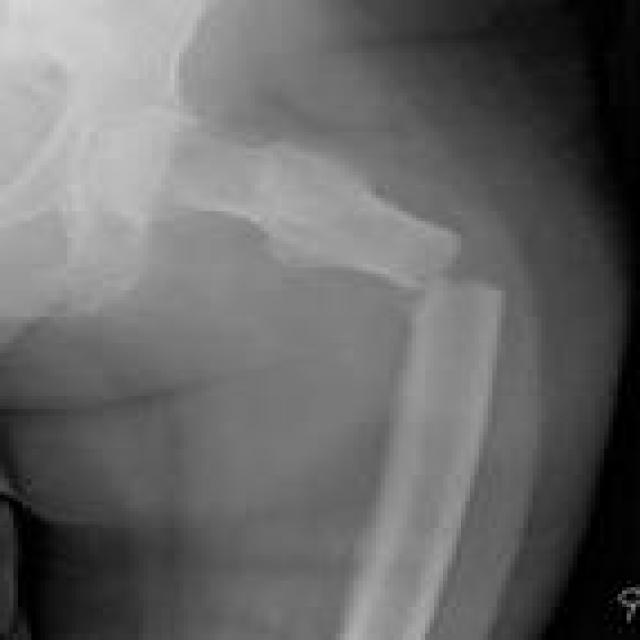Broken: (345, 283, 503, 637), (230, 140, 459, 282)
